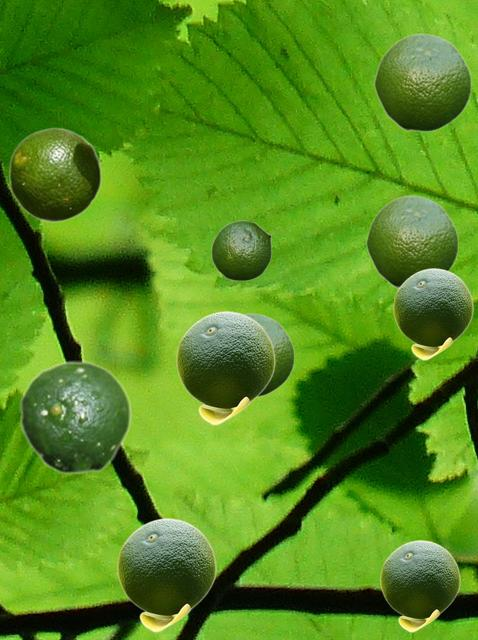calamansi: (19, 360, 131, 474), (117, 518, 215, 631), (176, 311, 274, 424), (373, 32, 471, 131), (365, 194, 458, 288), (8, 127, 101, 221), (380, 540, 459, 631), (393, 268, 472, 359), (243, 312, 294, 396), (211, 220, 271, 280)
